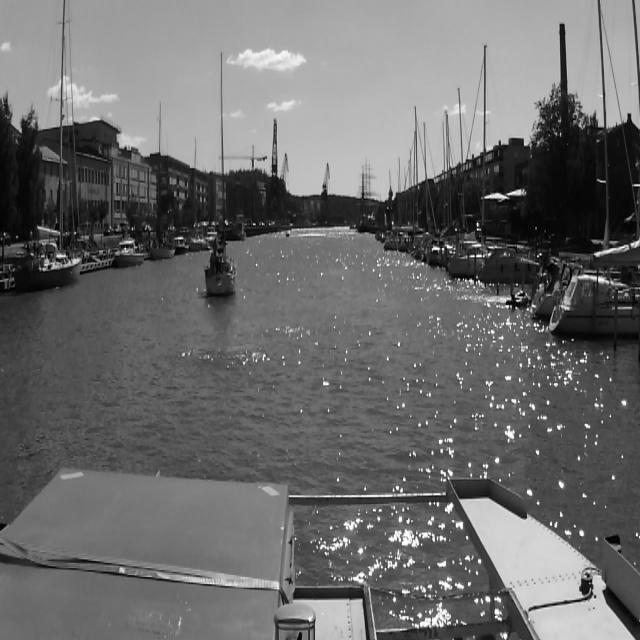ship: (546, 0, 640, 336), (17, 0, 82, 292), (446, 45, 490, 278), (204, 50, 238, 298), (151, 100, 175, 260), (477, 247, 541, 286), (188, 136, 203, 251), (114, 238, 144, 270), (174, 236, 186, 256), (286, 231, 290, 238)
